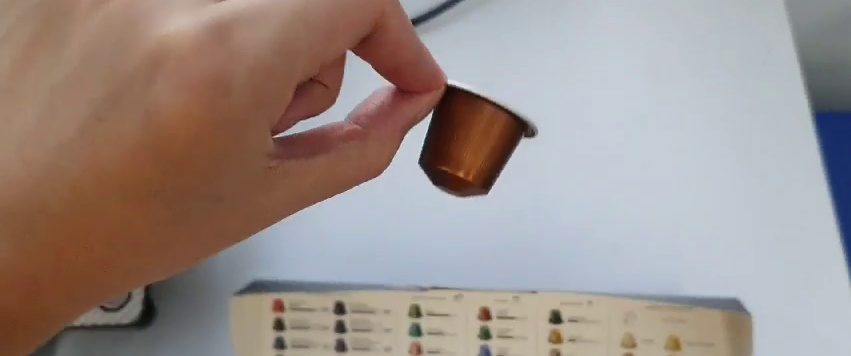capsule_3: (418, 76, 540, 200)
